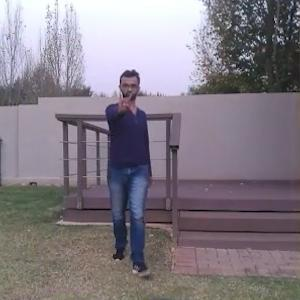takeoff-hand: (111, 83, 139, 119)
